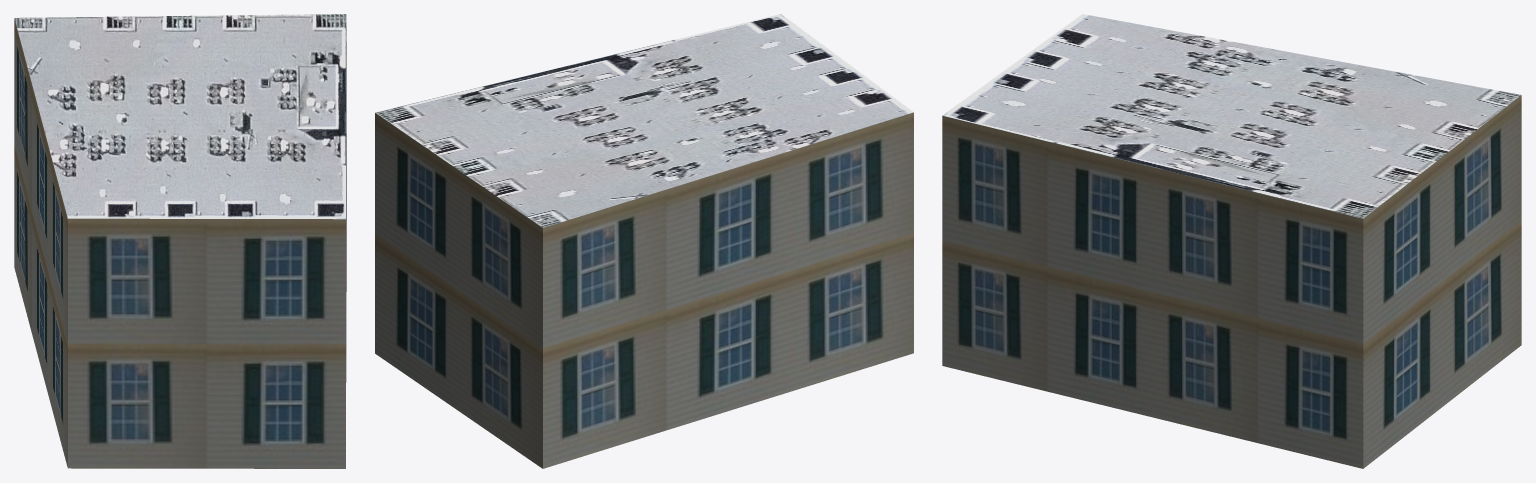
File: ResTex__4020.fbx
3 renders of one model, left to right at view 1: azimuth 30°, elevation 25°; view 2: azimuth 150°, elevation 25°; view 3: azimuth 270°, elevation 25°, orthographic. The views are drawn at different scales.
Visible parts, largest first — view 1: CityEngineMaterial_7_m, CityEngineMaterial_8_m; view 2: CityEngineMaterial_7_m, CityEngineMaterial_8_m; view 3: CityEngineMaterial_7_m, CityEngineMaterial_8_m.
Part boxes in pixels (x1,y1,x2,y2): CityEngineMaterial_7_m: (14, 18, 346, 468); CityEngineMaterial_8_m: (14, 14, 346, 219); CityEngineMaterial_7_m: (375, 112, 913, 468); CityEngineMaterial_8_m: (375, 14, 913, 227); CityEngineMaterial_7_m: (942, 95, 1521, 468); CityEngineMaterial_8_m: (943, 14, 1520, 218).
Bounding box in the file's own units: 10.53 × 6 × 12.59.
Materials: 2 (2 with a texture image).
